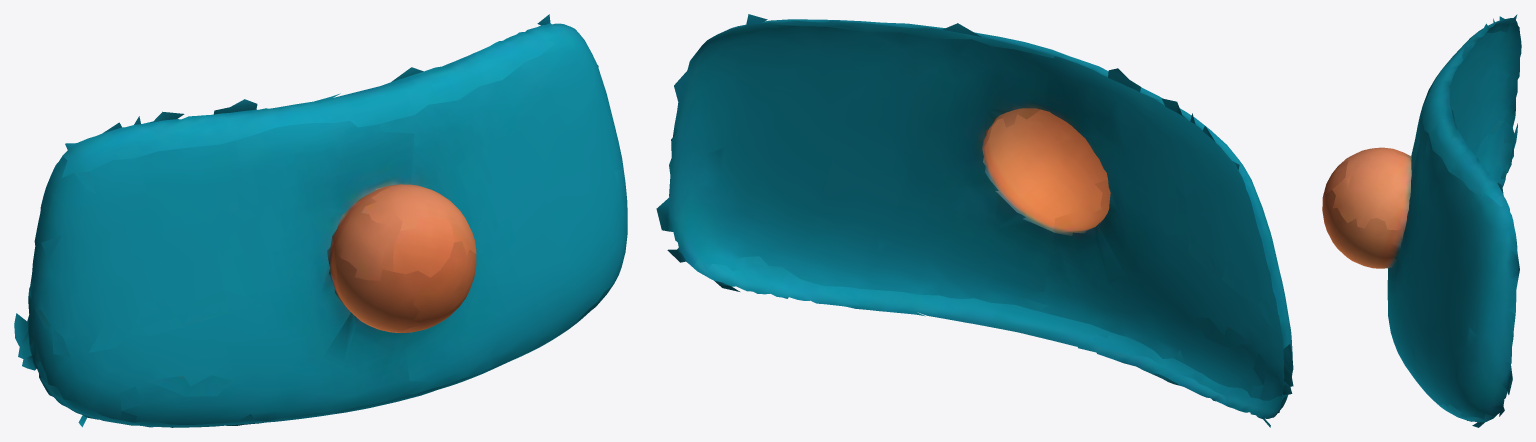
The model's file is top_drawer.glb.
3 renders of one model, left to right at view 1: azimuth 30°, elevation 25°; view 2: azimuth 150°, elevation 25°; view 3: azimuth 270°, elevation 25°, orthographic. The views are drawn at different scales.
Visible parts, largest first — view 1: geometry_0; view 2: geometry_0; view 3: geometry_0.
Part boxes in pixels (<box>): geometry_0: <box>14,14,627,427</box>; geometry_0: <box>656,14,1293,427</box>; geometry_0: <box>1322,14,1521,427</box>.
Size of the model in its own units: 0.3034 by 0.146 by 0.1066.
1 material, 1 textured.
